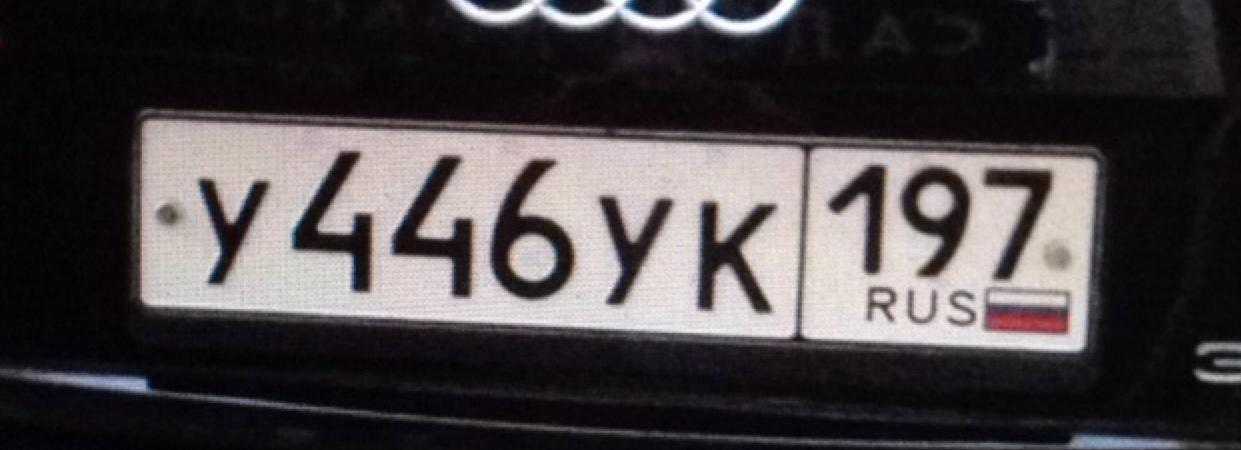license-plateSW: (130, 110, 1112, 342)
